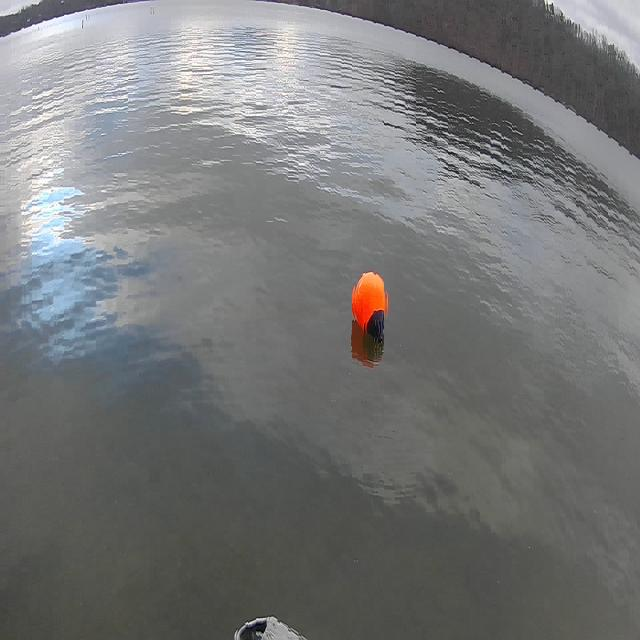Buoy: (349, 260, 395, 352)
